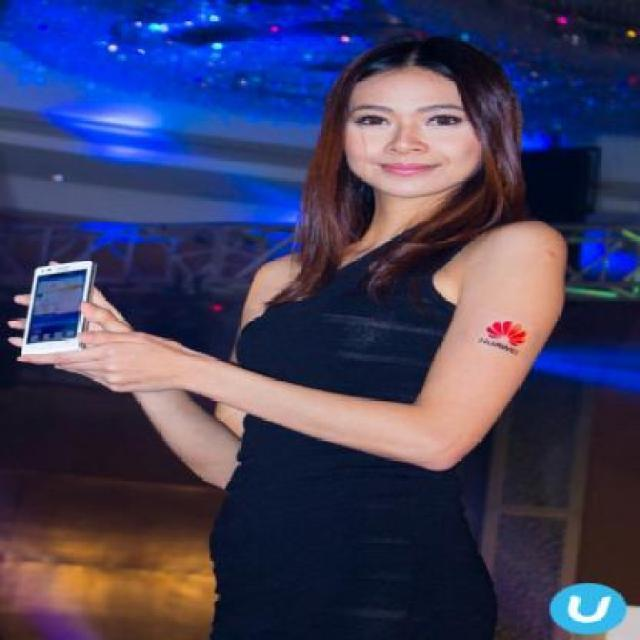phone: (17, 257, 106, 363)
